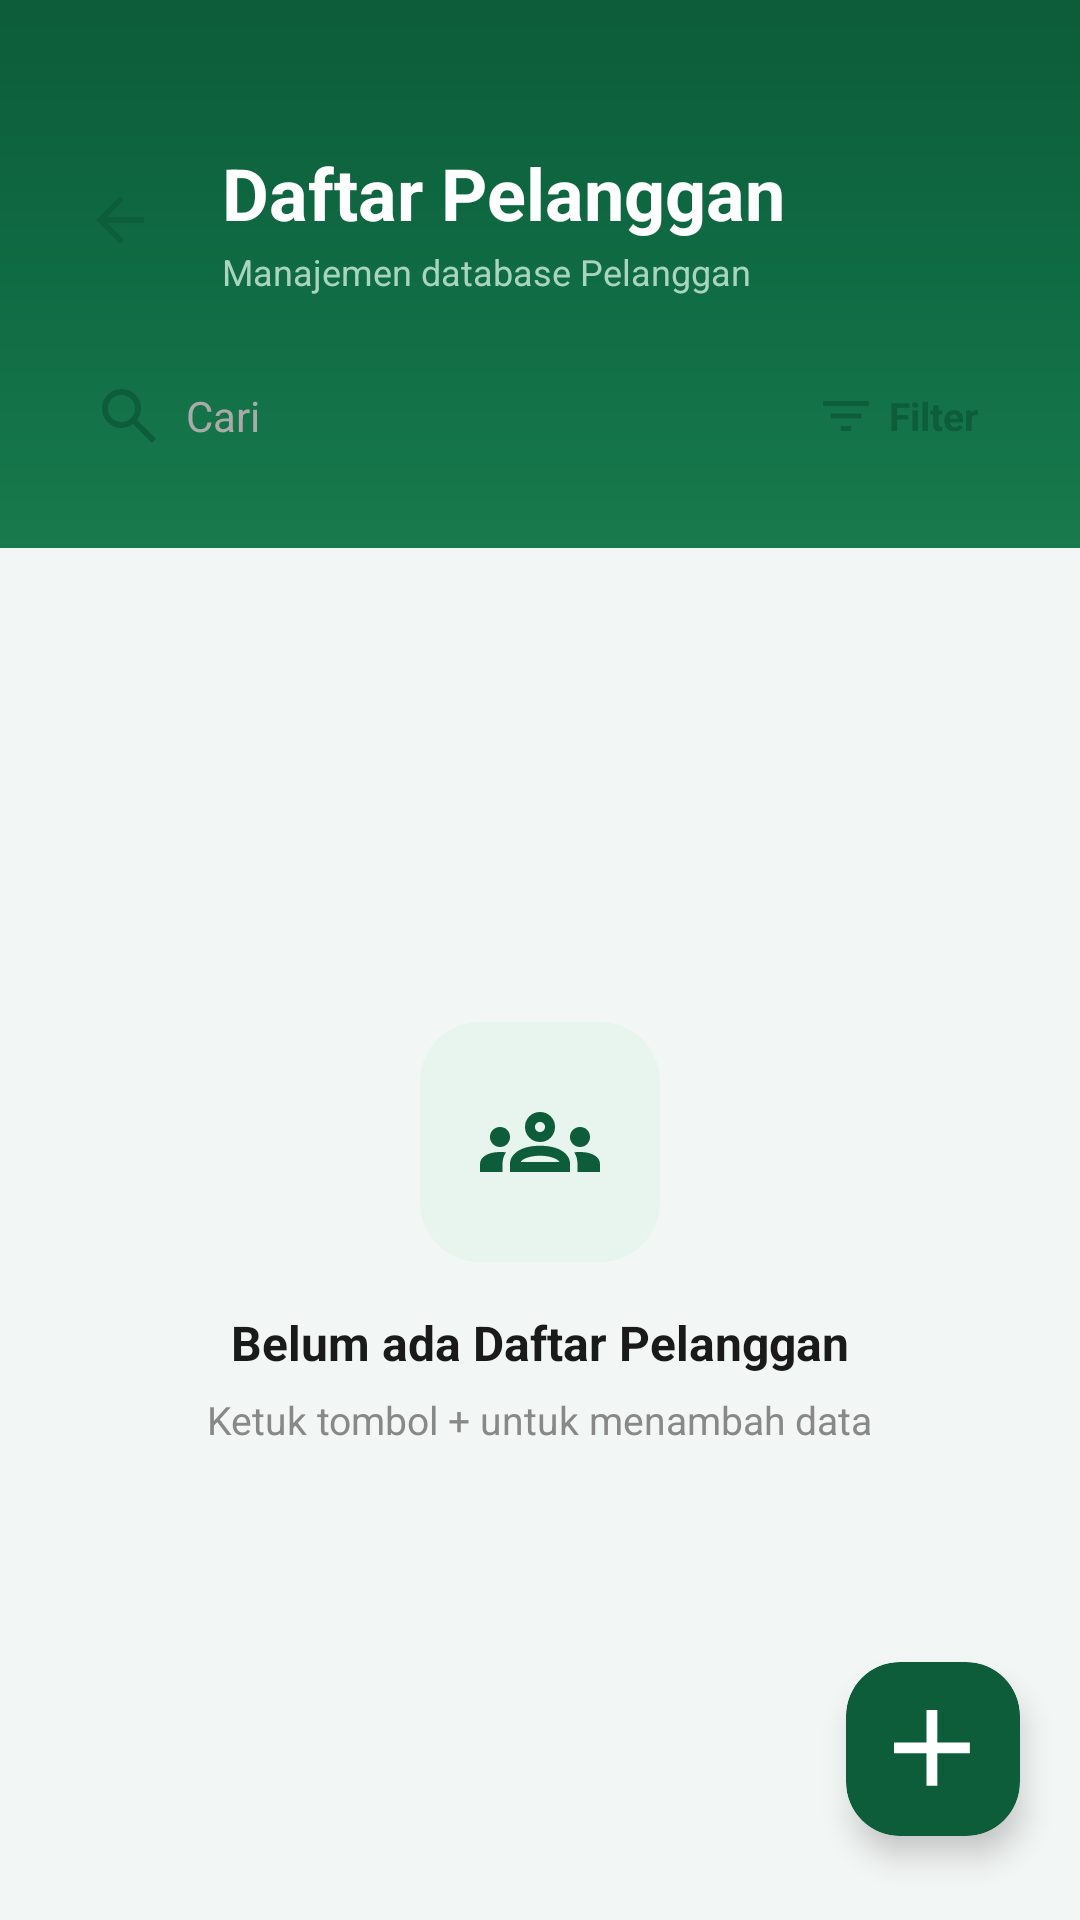

Icon click points for this 1080w x 1920h phone screenshot, format point (x, y):
Tambah Pelanggan: point (932, 1748)
